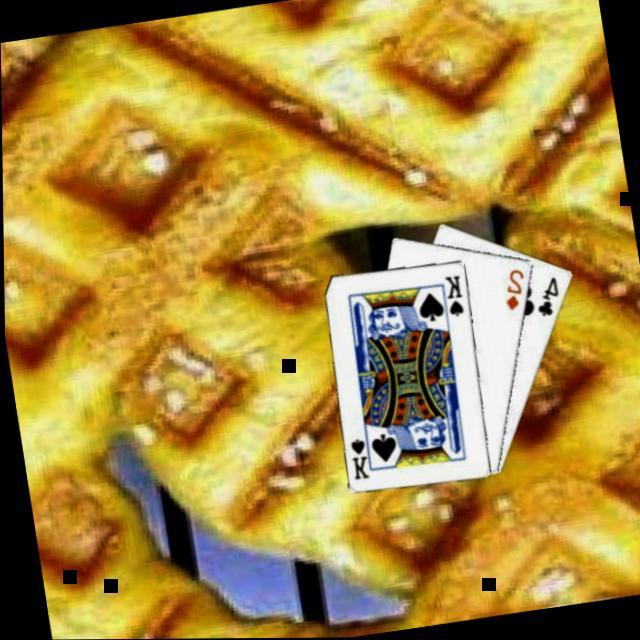2D: (495, 267, 530, 315)
4C: (527, 274, 563, 322)
KS: (342, 432, 374, 484), (438, 274, 466, 322)
